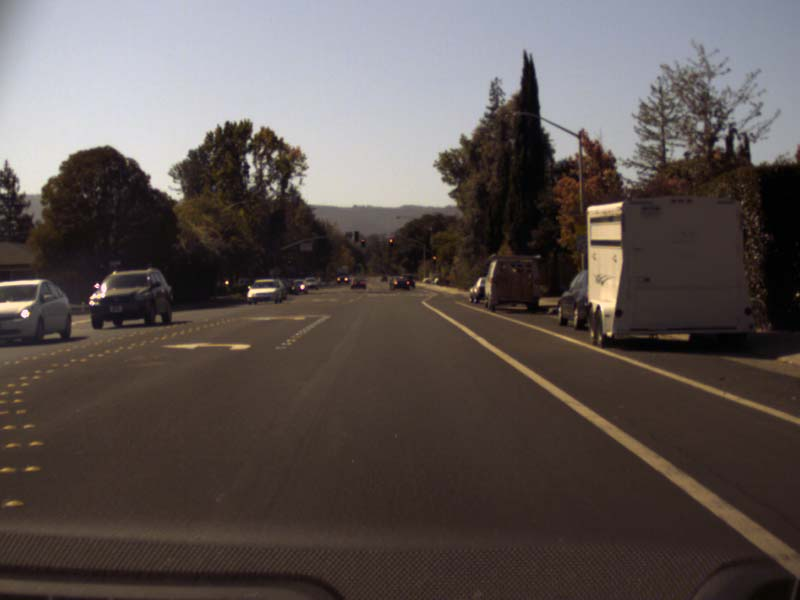Red: (387, 237, 393, 247), (360, 238, 365, 246), (287, 259, 291, 267)
Yellow: (432, 249, 437, 263)
